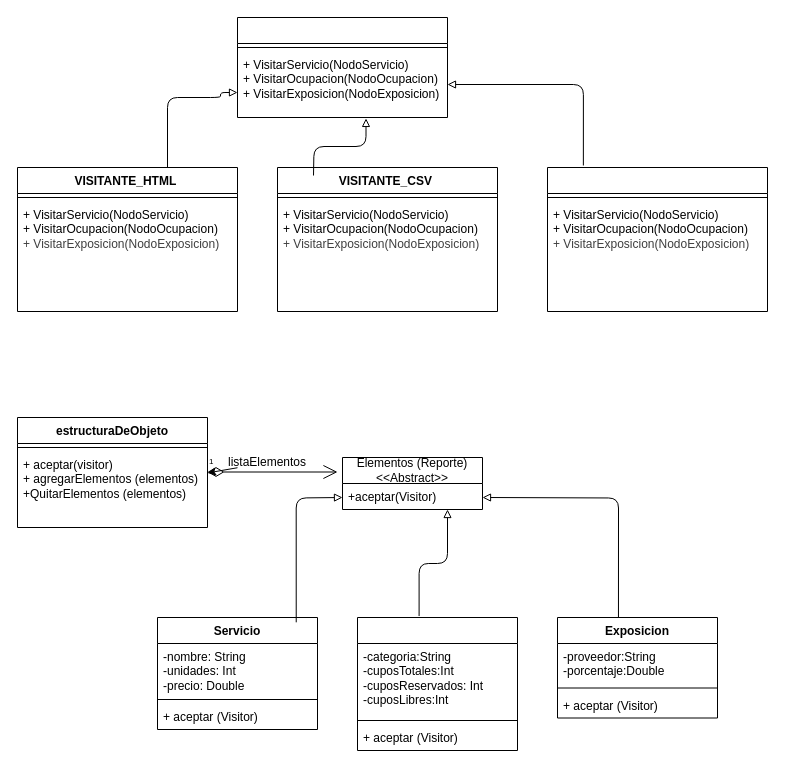
The diagram is 785 pixels wide and 771 high, and some of its shapes have lost their labels. The shapes that lost their labels are listed below. From the top down, each one's box as (x1, y1, x2, y2) in pixels, then its label:
(236, 16, 448, 118): VisitanteReporte (Nodo)
(546, 166, 768, 312): VISITANTE_TEXTO
(356, 616, 518, 750): Ocupacion
